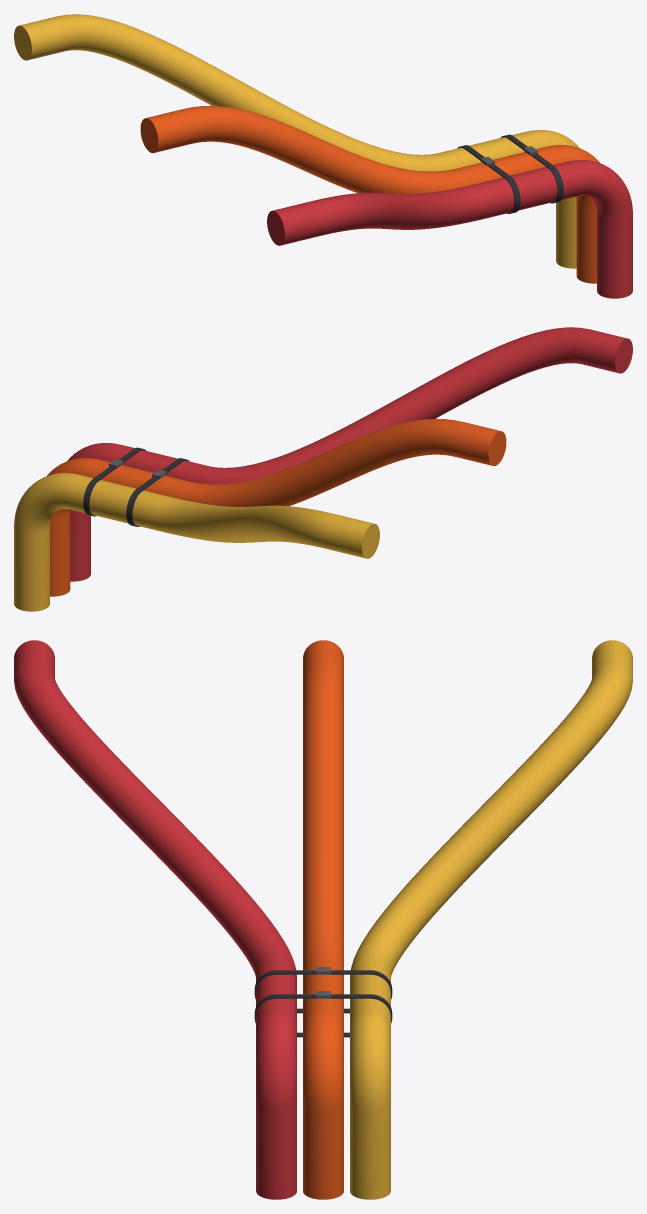
The model's file is power-cable-bundle.glb.
3 views of the same model, one above another, from view 1: azimuth 30°, elevation 25°; view 2: azimuth 150°, elevation 25°; view 3: azimuth 270°, elevation 25° (orthographic). The views are drawn at different scales.
Parts seen in each view (by area): view 1: Power cable | orange jacket, Bundle band 2 | graphite wrap, Bundle band 1 | graphite wrap; view 2: Power cable | orange jacket, Bundle band 2 | graphite wrap, Bundle band 1 | graphite wrap; view 3: Power cable | orange jacket.
Boxes of the visible parts, x1,y1,x2,y2 form: Power cable | orange jacket: (14,14,632,298); Bundle band 2 | graphite wrap: (500,134,563,203); Bundle band 1 | graphite wrap: (457,145,520,213); Power cable | orange jacket: (14,327,632,611); Bundle band 2 | graphite wrap: (83,447,146,516); Bundle band 1 | graphite wrap: (126,458,189,526); Power cable | orange jacket: (14,640,632,1199).
Bounding box in the file's own units: 2.46 × 1.35 × 2.51.
